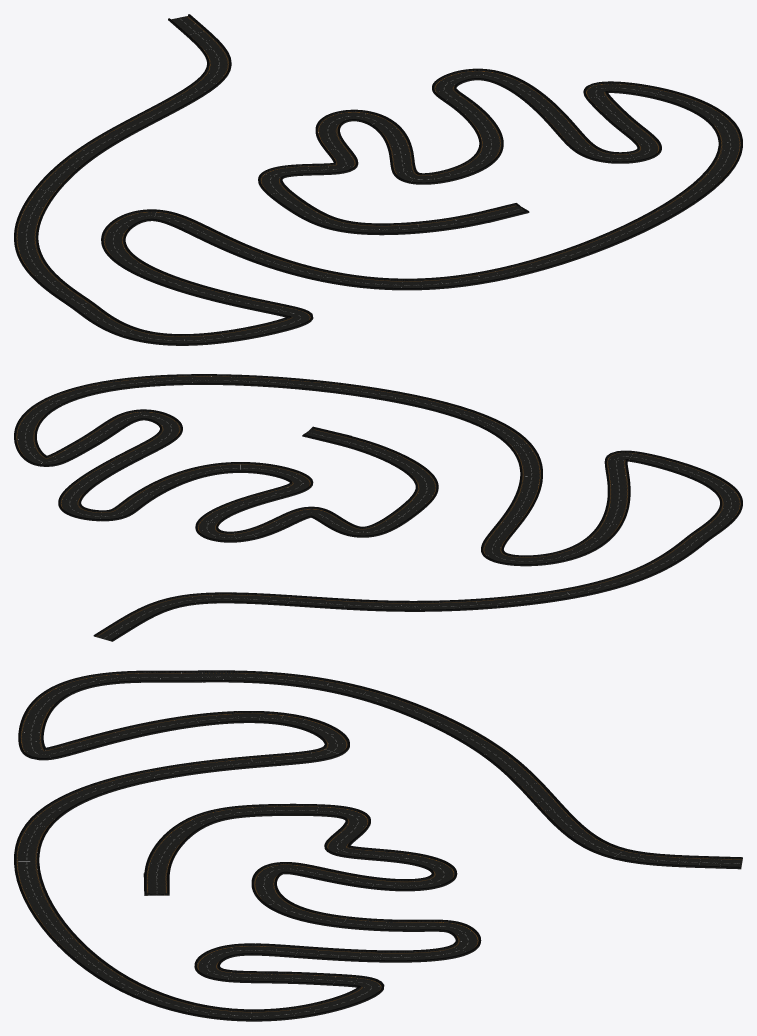
File: road2.fbx
The picture shows the model from 3 angles, top to bottom: view 1: azimuth 30°, elevation 25°; view 2: azimuth 150°, elevation 25°; view 3: azimuth 270°, elevation 25°; orthographic projection. The views are drawn at different scales.
Parts seen in each view (by area): view 1: Plane; view 2: Plane; view 3: Plane.
Boxes of the visible parts, <box> form: Plane: <box>14,14,742,345</box>; Plane: <box>14,374,742,641</box>; Plane: <box>14,670,742,1021</box>.
Size of the model in its own units: 7850 by 16.41 by 6912.
